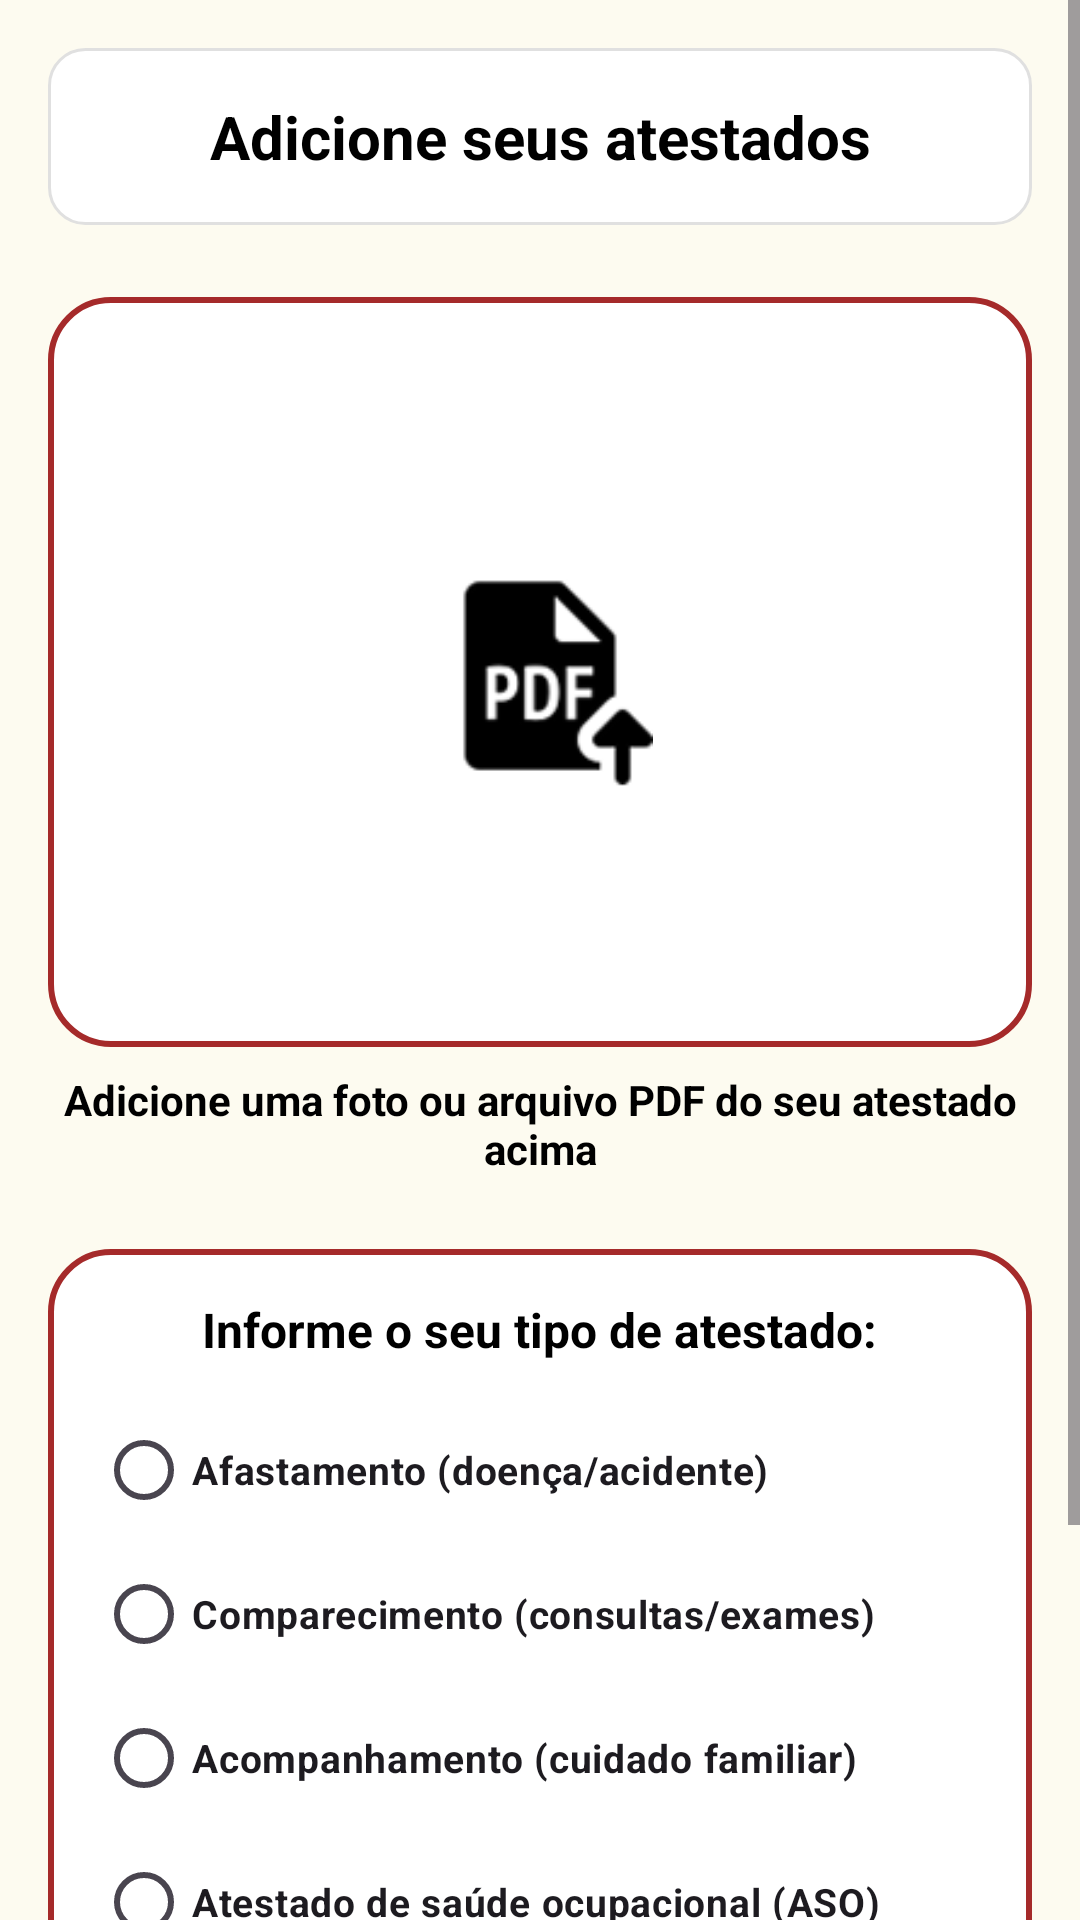

Icon bounding boxes for this 1080px×1920px phone screenshot, format box=[x1, y1, x2, y2]:
pdf upload: box=[463, 580, 653, 786]
